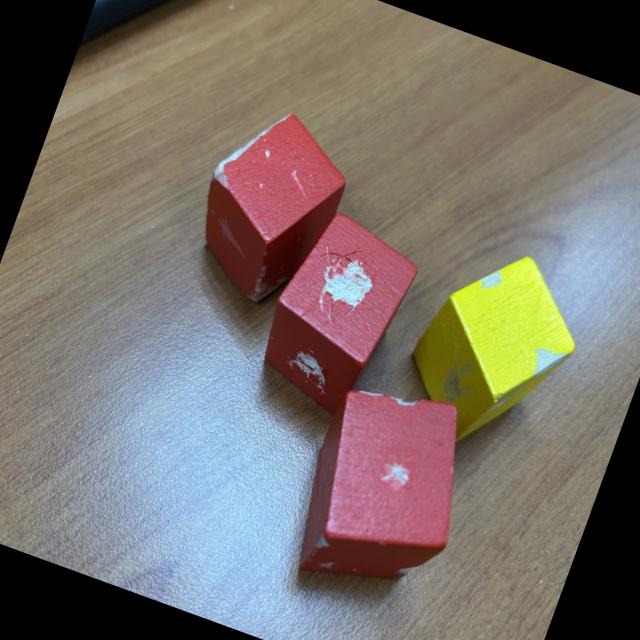broken: (277, 366, 493, 616), (388, 228, 600, 471), (175, 91, 368, 321), (245, 201, 429, 427)
